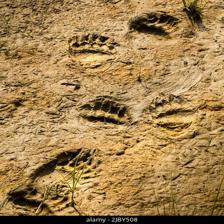bear: (77, 96, 130, 133), (67, 30, 117, 69)
